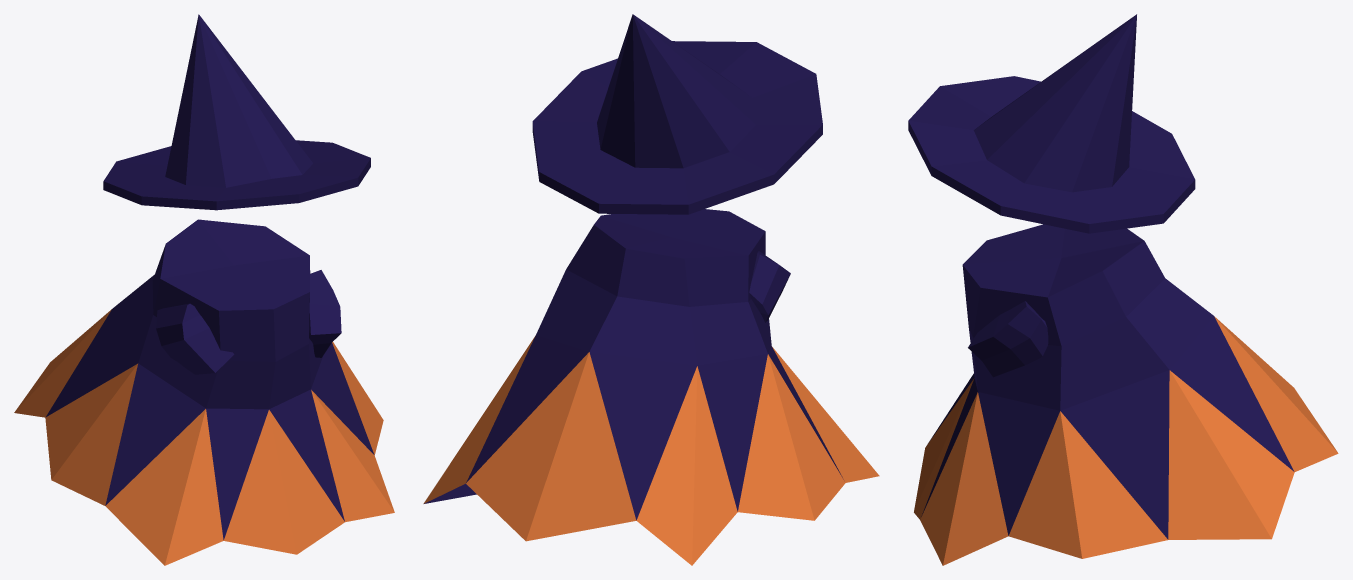
Rendered from ウィッチ.fbx.
The picture shows the model from 3 angles, left to right: view 1: azimuth 30°, elevation 25°; view 2: azimuth 150°, elevation 25°; view 3: azimuth 270°, elevation 25°; orthographic projection. The views are drawn at different scales.
Visible parts, largest first — view 1: 平面, 円, 立方体, 立方体.001; view 2: 平面, 円, 立方体; view 3: 平面, 円, 立方体.001.
Boxes of the visible parts, left/top/right/bottom form: 平面: left=14, top=219, right=394, bottom=565; 円: left=103, top=14, right=370, bottom=210; 立方体: left=156, top=303, right=234, bottom=374; 立方体.001: left=309, top=270, right=341, bottom=357; 平面: left=423, top=209, right=879, bottom=565; 円: left=532, top=14, right=822, bottom=214; 立方体: left=749, top=251, right=790, bottom=322; 平面: left=914, top=224, right=1338, bottom=565; 円: left=908, top=14, right=1195, bottom=233; 立方体.001: left=968, top=301, right=1048, bottom=377.
Size of the model in its own units: 3700 by 5209 by 4053.
